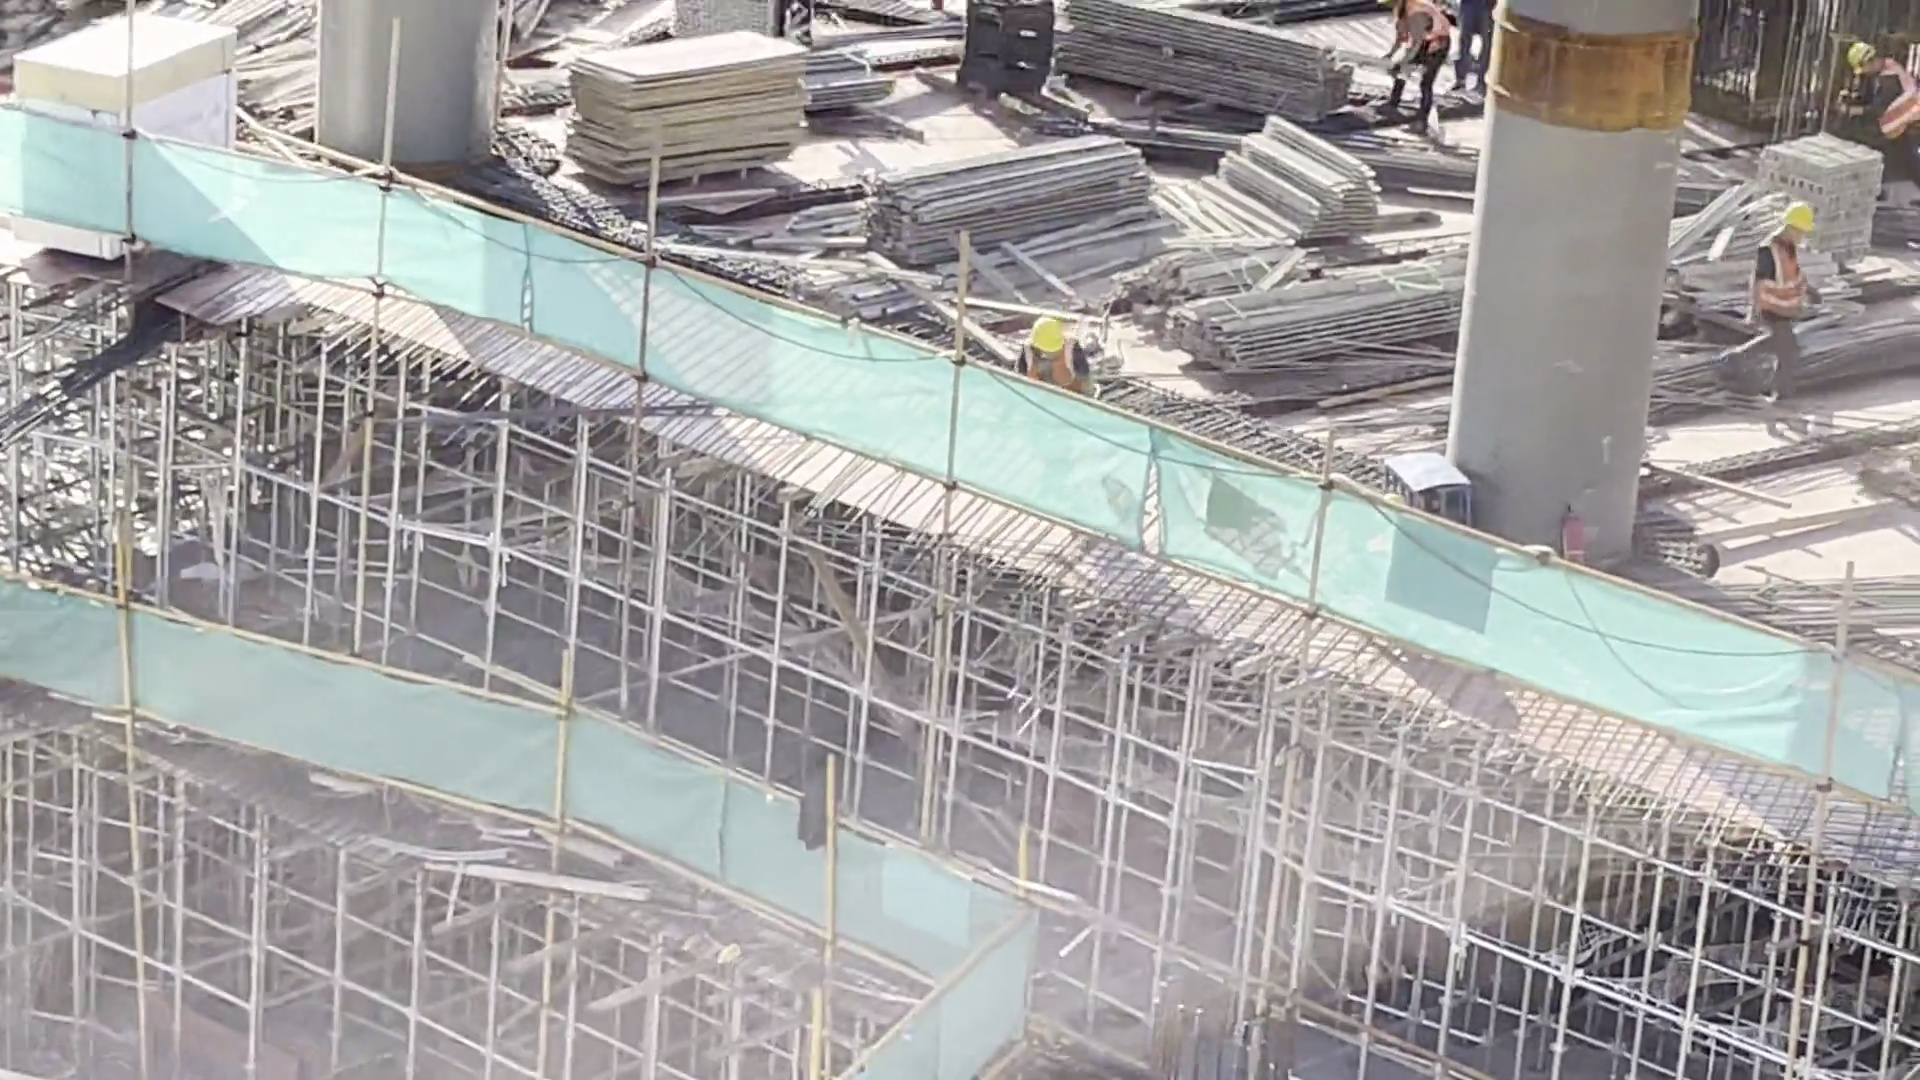board: (563, 44, 798, 192), (63, 1, 234, 152)
helmet: (1034, 312, 1073, 351), (1783, 197, 1811, 241), (1849, 42, 1876, 72)
person: (1766, 191, 1843, 373), (1833, 53, 1920, 168), (1388, 1, 1448, 135), (1036, 295, 1088, 403), (1448, 1, 1488, 83)
rebar: (1149, 103, 1489, 220), (1653, 307, 1920, 425), (1709, 555, 1920, 662)
vest: (1749, 221, 1798, 322), (1866, 69, 1919, 151), (1036, 354, 1088, 399), (1454, 1, 1485, 42), (1416, 1, 1438, 57)
